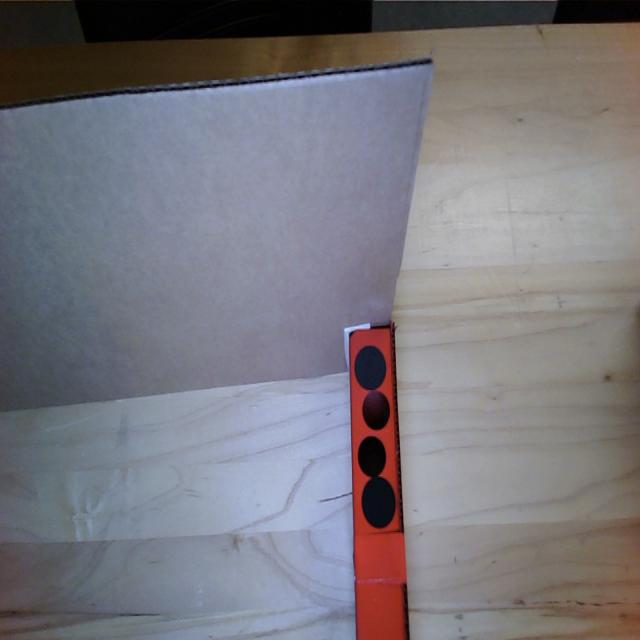Hole: (362, 390, 392, 431), (357, 435, 386, 477)
Sticker: (362, 476, 396, 528), (353, 344, 387, 390)
